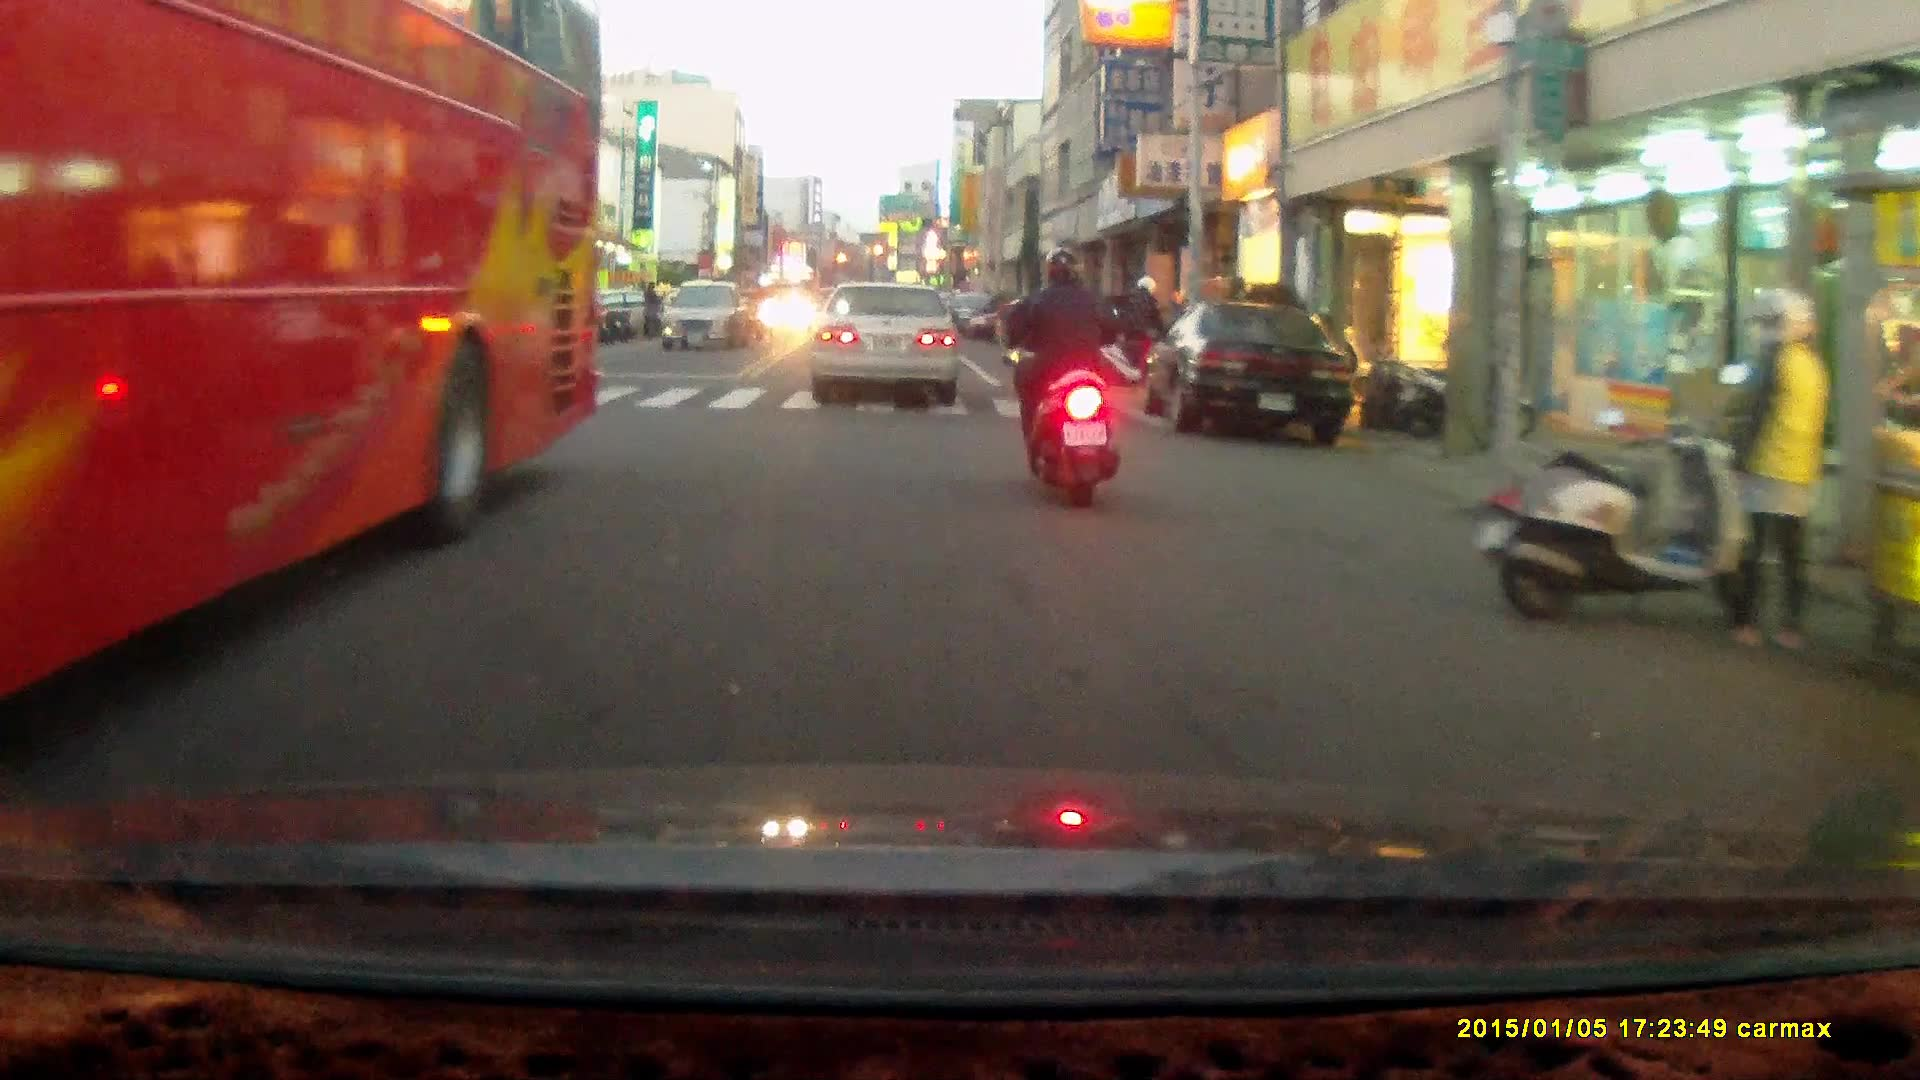pedestrian: (1719, 284, 1834, 654), (1129, 273, 1167, 394), (641, 277, 663, 343)
rider: (993, 243, 1119, 509)
vehicle: (1, 16, 606, 724), (1140, 302, 1367, 443), (812, 280, 963, 406), (656, 281, 754, 354)
